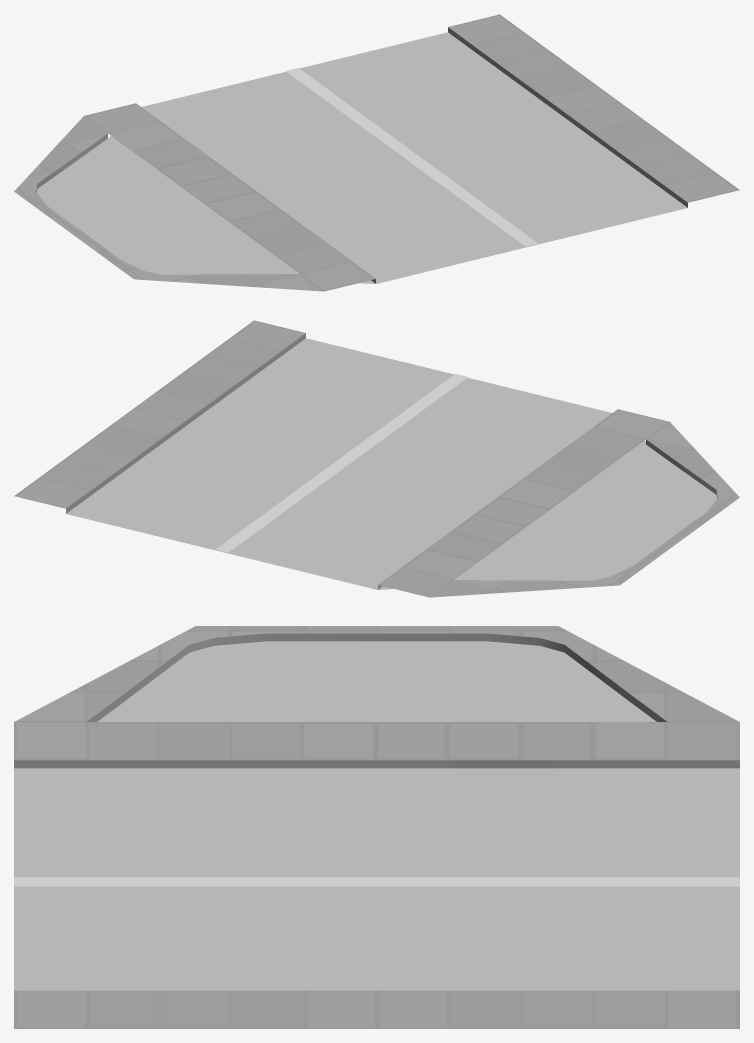
The model's file is tile_road_bay_1x1_a.fbx.
3 renders of one model, top to bottom at view 1: azimuth 30°, elevation 25°; view 2: azimuth 150°, elevation 25°; view 3: azimuth 270°, elevation 25°, orthographic. The views are drawn at different scales.
Parts seen in each view (by area): view 1: tile_road_bay_1x1_a; view 2: tile_road_bay_1x1_a; view 3: tile_road_bay_1x1_a.
Boxes of the visible parts, left/top/right/bottom form: tile_road_bay_1x1_a: left=14, top=14, right=739, bottom=291; tile_road_bay_1x1_a: left=14, top=320, right=739, bottom=597; tile_road_bay_1x1_a: left=14, top=626, right=739, bottom=1028.
Size of the model in its own units: 2101 by 19.01 by 1600.
